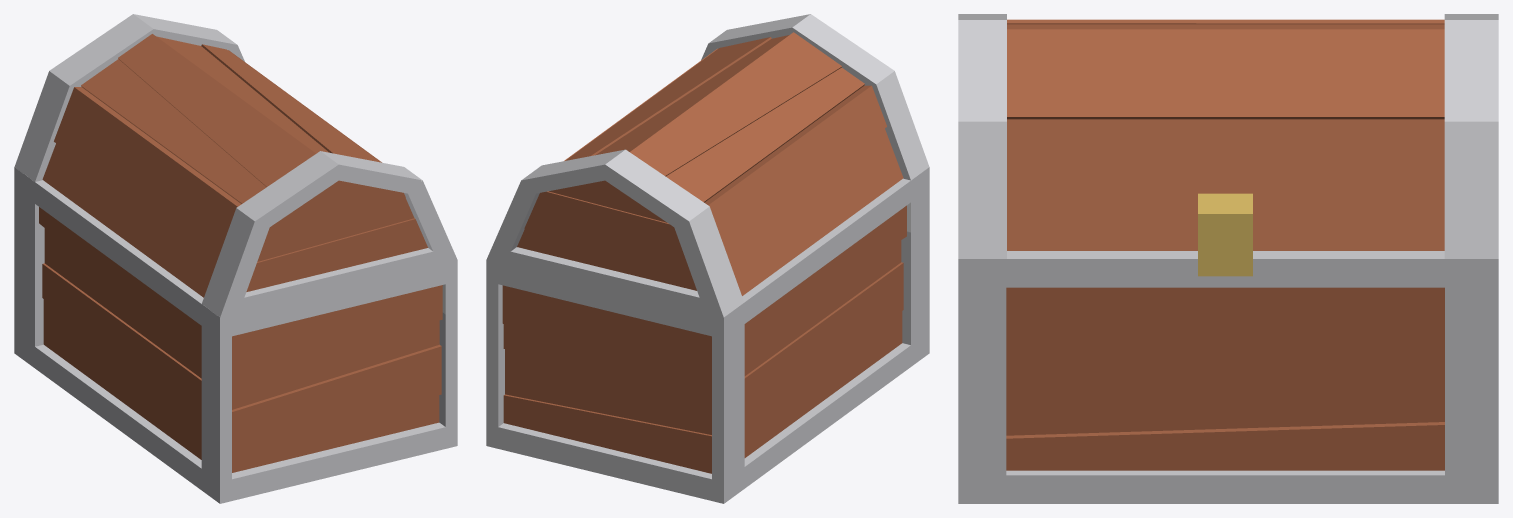
File: chest.glb
3 views of the same model, side by side, from view 1: azimuth 30°, elevation 25°; view 2: azimuth 150°, elevation 25°; view 3: azimuth 270°, elevation 25° (orthographic). The views are drawn at different scales.
Parts seen in each view (by area): view 1: 立方体; view 2: 立方体; view 3: 立方体.
Boxes of the visible parts, x1,y1,x2,y2 form: 立方体: (14, 14, 457, 503); 立方体: (486, 14, 929, 503); 立方体: (958, 14, 1498, 503).
Size of the model in its own units: 2.04 by 2.5 by 3.
1 material, 1 textured.
